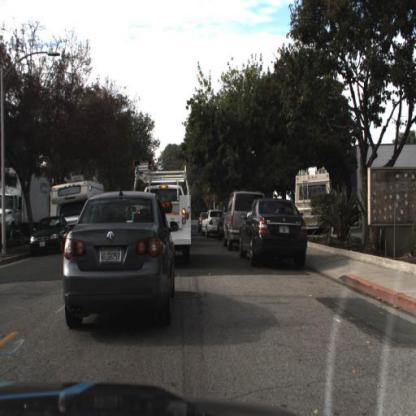car: (68, 191, 175, 329), (237, 198, 309, 271), (165, 163, 198, 271), (223, 190, 267, 254), (49, 171, 98, 221), (28, 212, 72, 259), (201, 208, 224, 241), (216, 200, 228, 246)
truck: (142, 181, 195, 260), (1, 166, 52, 241), (1, 167, 50, 244), (51, 176, 105, 241), (293, 164, 337, 243)
